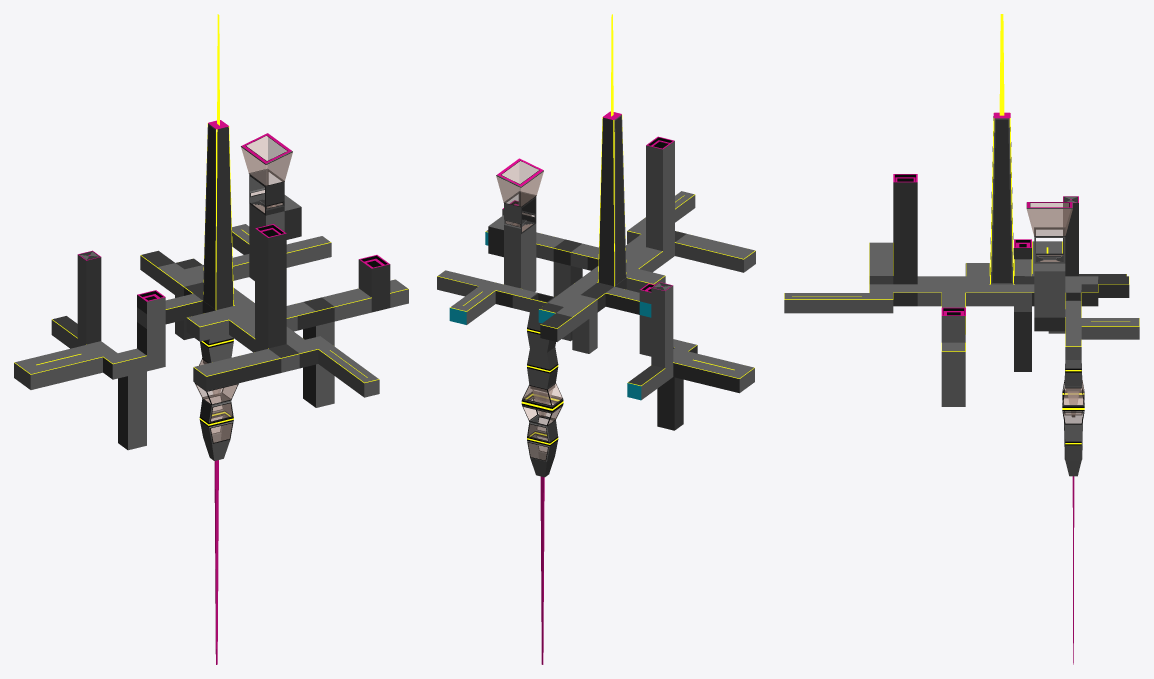
File: hide-n-seek-plat-21-d1.glb
3 views of the same model, side by side, from view 1: azimuth 30°, elevation 25°; view 2: azimuth 150°, elevation 25°; view 3: azimuth 270°, elevation 25° (orthographic). The views are drawn at different scales.
Parts seen in each view (by area): view 1: Cube; view 2: Cube; view 3: Cube.
Boxes of the visible parts, x1,y1,x2,y2 form: Cube: (14,14,408,664); Cube: (437,14,755,664); Cube: (784,14,1139,664).
Size of the model in its own units: 28.07 by 56.05 by 28.49.
